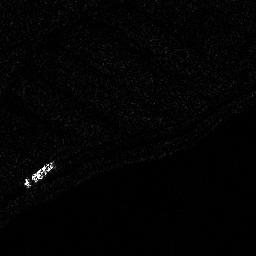ship: (23, 158, 58, 187)
